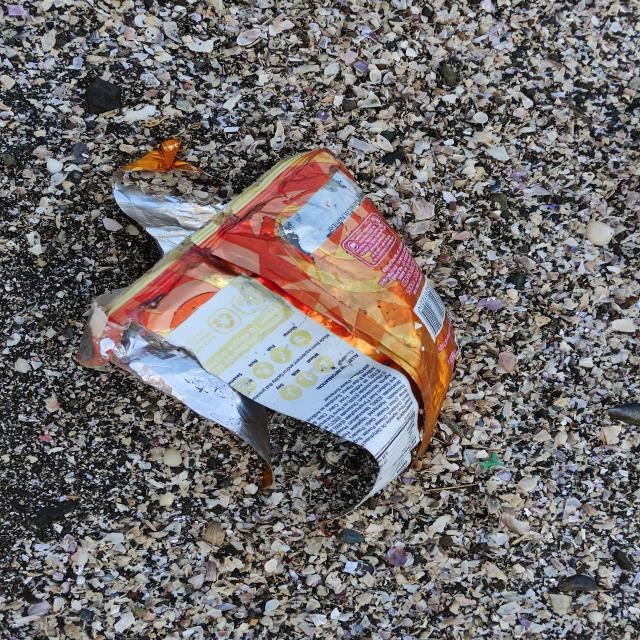plastic_waste: (82, 145, 461, 472)
